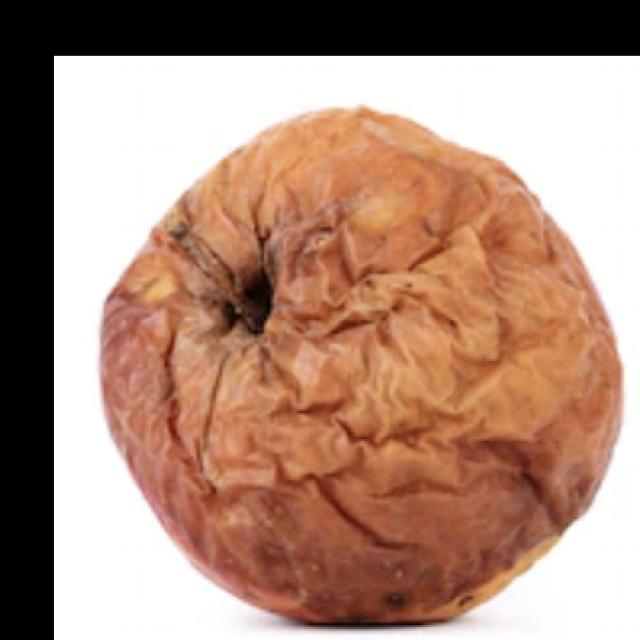Rotten: (95, 110, 633, 640)
